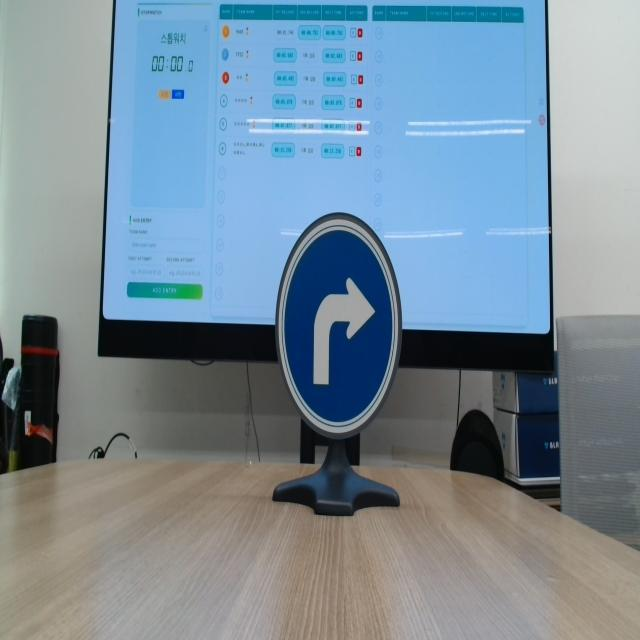right_dierection: (266, 190, 412, 461)
